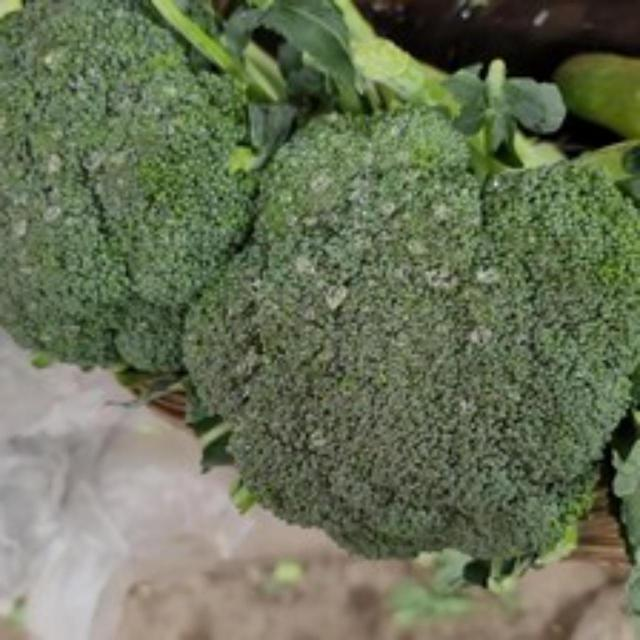broccoli: (184, 89, 640, 566)
